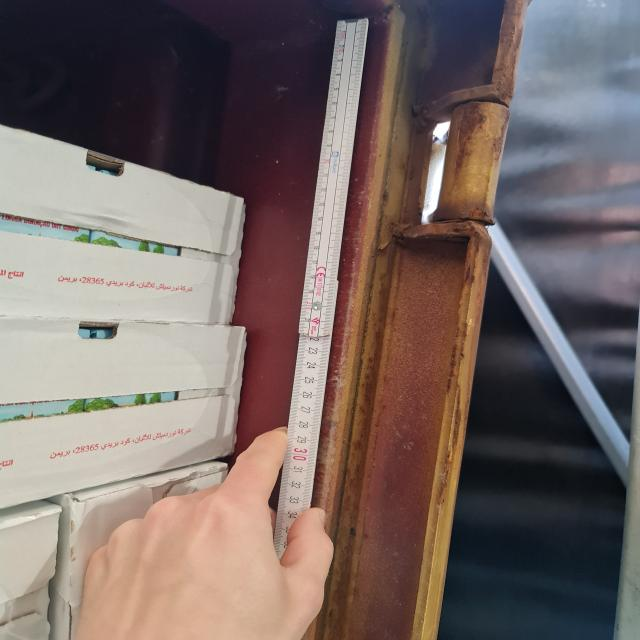Carton: (0, 320, 246, 512), (3, 125, 244, 320)
